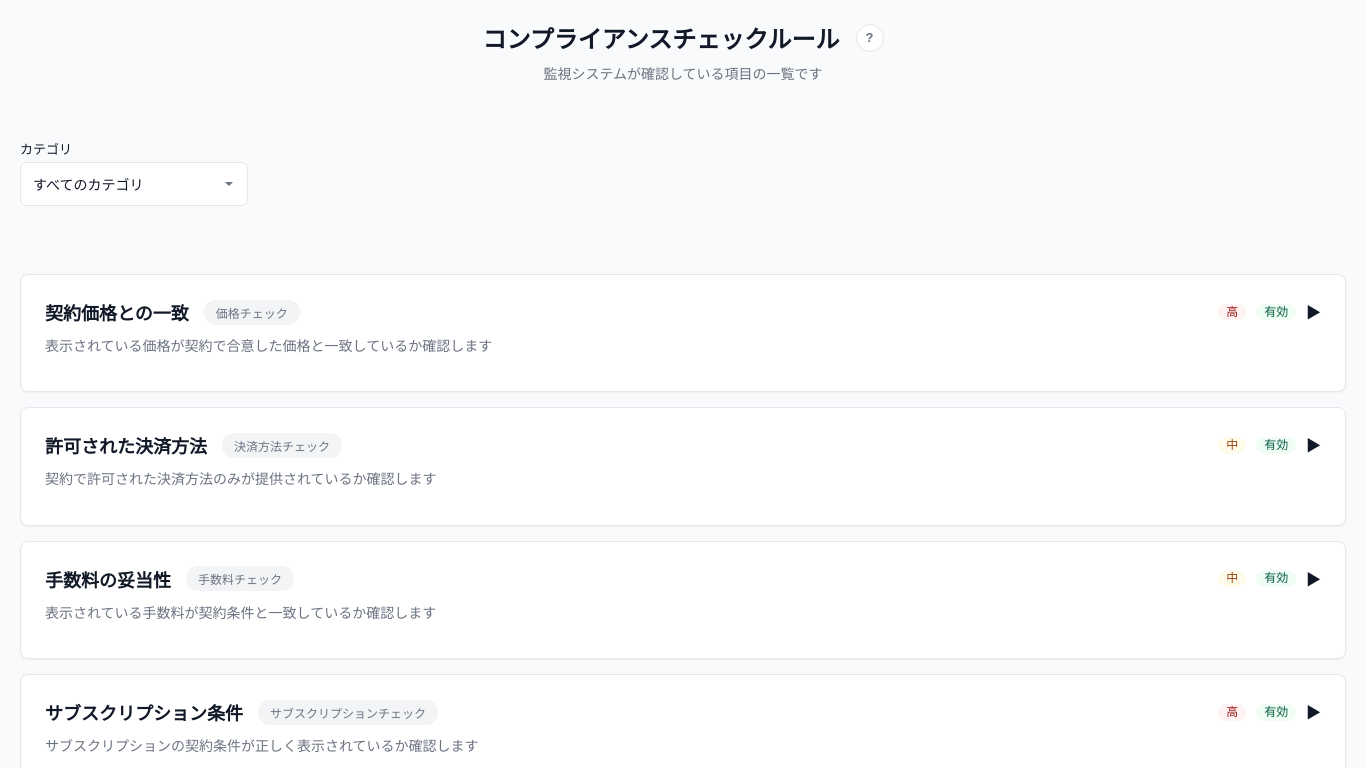
Test case: Rules - Help Modal › should open help modal with rules content when help button is clicked
Click the button named "ヘルプを表示" at (870, 38), box [856,24,884,52]
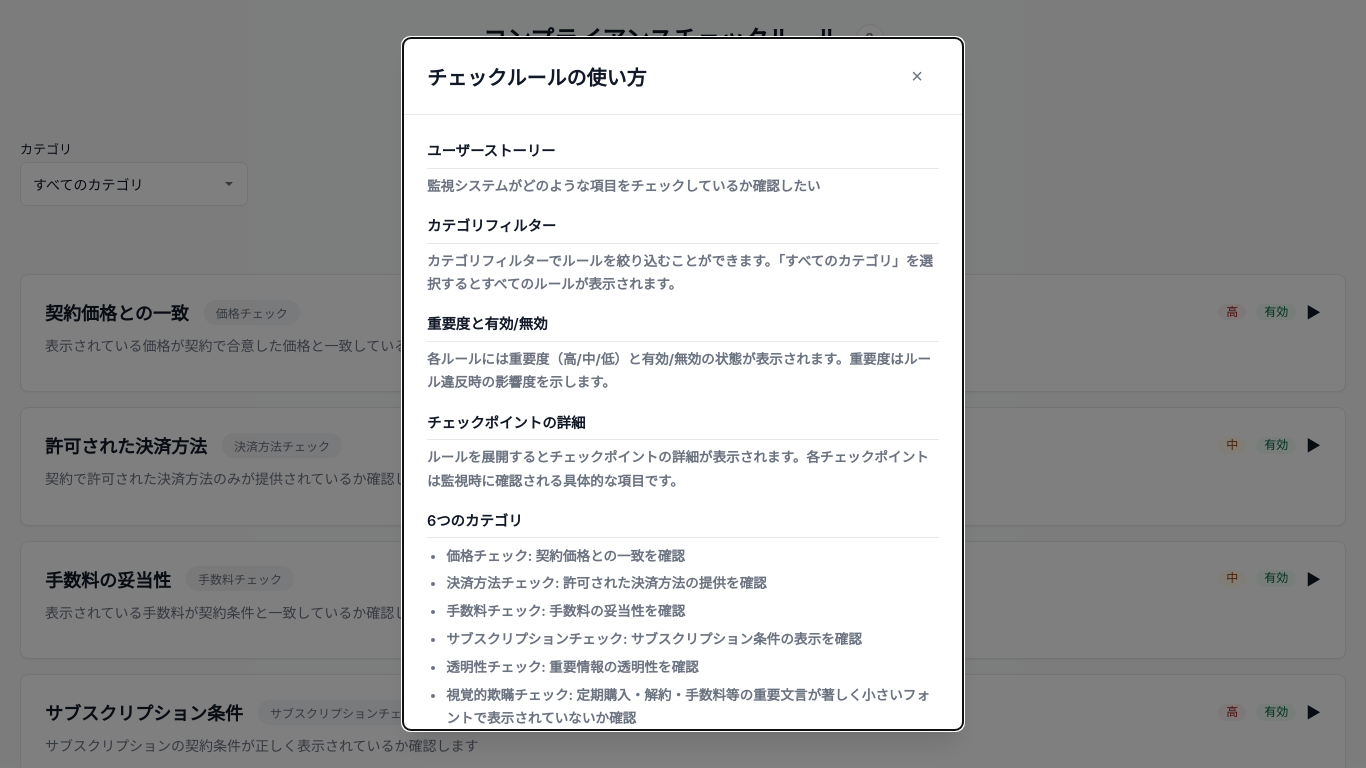
Now the heading "チェックルールの使い方" is shown, box [427,62,646,91]
Now the text "監視システムがどのような項目をチェックしているか確認したい" is shown, box [427,178,820,194]
Now the heading "カテゴリフィルター" is shown, box [427,214,939,244]
